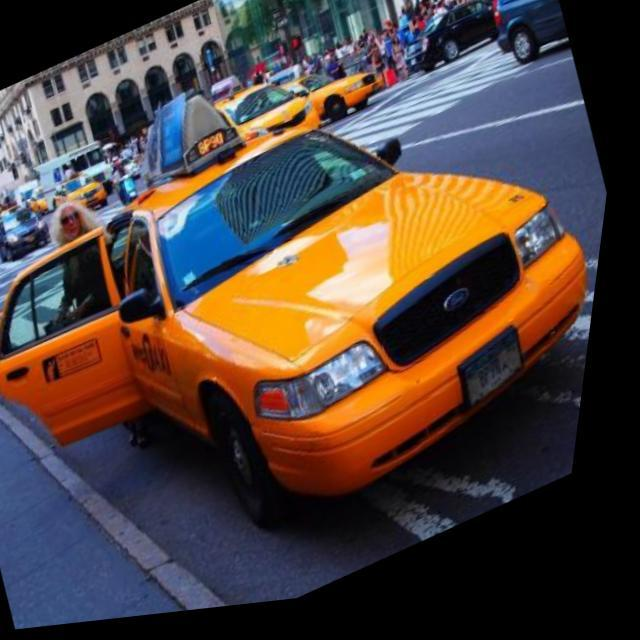license_plate: (458, 332, 550, 424), (32, 235, 46, 248)
